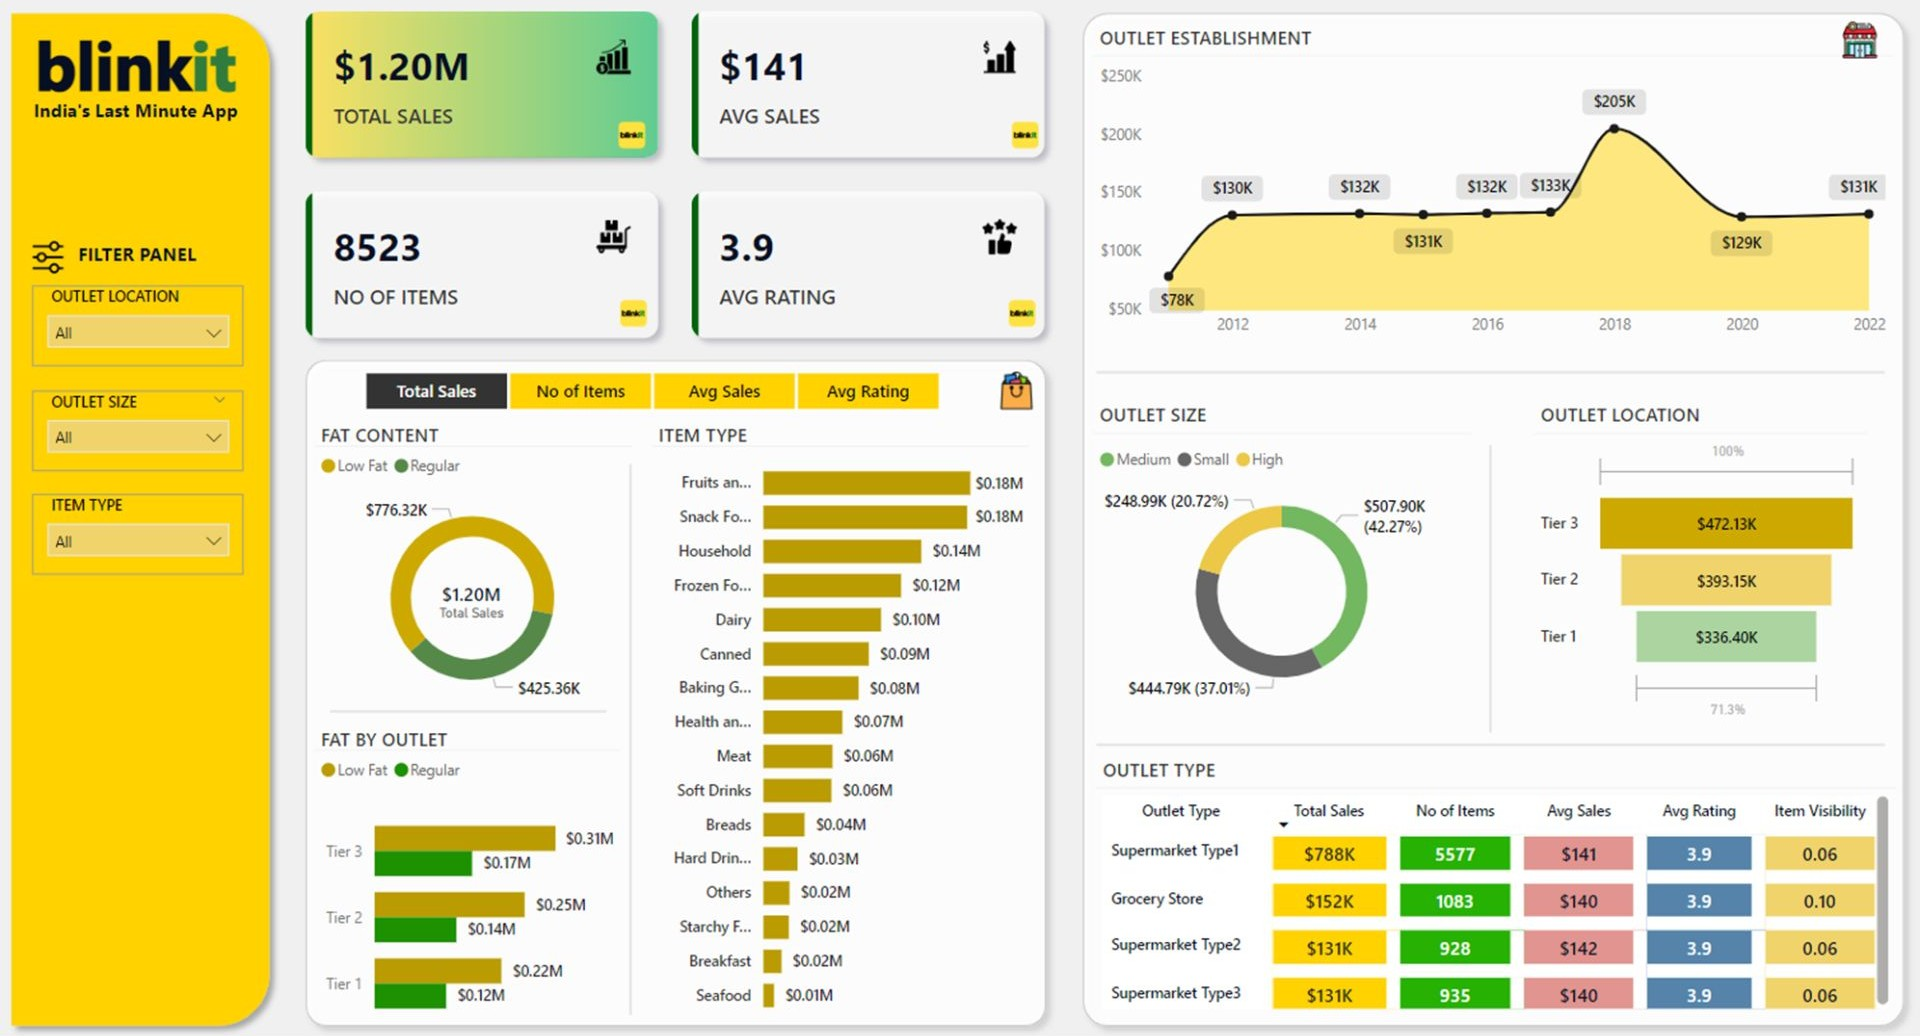

The page's visual inventory and layout, read from the dashboard file:
{"tool":"powerbi","page":{"name":"Home","canvas":[1400,800],"ordinal":0},"visuals":[{"type":"shape","box":[0,25.3,205,750.7],"z":0},{"type":"textbox","box":[0,33,198.1,82.1],"z":1000},{"type":"cardVisual","fields":{"Data":["BlinkIT Grocery Data.Total Sum Sales","BlinkIT Grocery Data.Average Sales","BlinkIT Grocery Data.No of Items","BlinkIT Grocery Data.Avg Rating"]},"box":[204.8,15.8,569.7,270.8],"z":2000},{"type":"shape","box":[774.5,25.5,611.7,751.1],"z":6000},{"type":"areaChart","title":"OUTLET ESTABLISHMENT","fields":{"Y":["BlinkIT Grocery Data.Total Sum Sales"],"Category":["BlinkIT Grocery Data.Outlet Establishment Year2"]},"box":[790.6,42.5,578.3,234],"z":7000},{"type":"textbox","box":[0,89.6,198.1,34],"z":8000},{"type":"donutChart","title":"OUTLET SIZE","fields":{"Category":["BlinkIT Grocery Data.Outlet Size"],"Y":["BlinkIT Grocery Data.Total Sum Sales"]},"box":[790.6,316,273.6,224.5],"z":9000},{"type":"funnel","title":"OUTLET LOCATION","fields":{"Category":["BlinkIT Grocery Data.Outlet Location Type"],"Y":["BlinkIT Grocery Data.Total Sum Sales"]},"box":[1110.4,316,240.6,234],"z":10000},{"type":"pivotTable","title":"OUTLET TYPE","fields":{"Rows":["BlinkIT Grocery Data.Outlet Type"],"Values":["BlinkIT Grocery Data.Total Sum Sales","BlinkIT Grocery Data.No of Items","BlinkIT Grocery Data.Average Sales","BlinkIT Grocery Data.Avg Rating","Avg(BlinkIT Grocery Data.Item Visibility)"]},"box":[793.6,572.3,578.7,197.1],"z":11000},{"type":"shape","box":[793.4,284.9,570.8,19.8],"z":12000},{"type":"shape","box":[1064.2,346.2,29.2,208.5],"z":13000},{"type":"shape","box":[212.8,276.6,553.2,500],"z":14000},{"type":"donutChart","title":"FAT CONTENT","fields":{"Y":["BlinkIT Grocery Data.Avg Rating"],"Category":["BlinkIT Grocery Data.Item Fat Content"]},"box":[228.3,330.2,229.2,213.2],"z":15000},{"type":"shape","box":[793.4,553.8,570.8,19.8],"z":16000},{"type":"cardVisual","fields":{"Data":["BlinkIT Grocery Data.Avg Rating"]},"box":[291.9,428.1,102,54.5],"z":17000},{"type":"slicer","fields":{"Values":["Metric.Metric"]},"box":[240,287.5,464.2,39.6],"z":18000},{"type":"barChart","title":"ITEM TYPE","fields":{"Y":["BlinkIT Grocery Data.Avg Rating"],"Category":["BlinkIT Grocery Data.Item Type"]},"box":[475.3,330.2,269.8,438.1],"z":19000},{"type":"shape","box":[442.5,360.4,29.2,399.1],"z":20000},{"type":"clusteredBarChart","title":"FAT BY OUTLET","fields":{"Y":["BlinkIT Grocery Data.Avg Rating"],"Category":["BlinkIT Grocery Data.Outlet Location Type"],"Series":["BlinkIT Grocery Data.Item Fat Content"]},"box":[228.3,550.9,221.7,229.2],"z":21000},{"type":"shape","box":[239.6,529.2,200,19.8],"z":22000},{"type":"image","box":[725.5,108.5,33,29.2],"z":23000},{"type":"image","box":[723.6,237.7,33,29.2],"z":24000},{"type":"image","box":[442.5,237.7,33,29.2],"z":25000},{"type":"image","box":[440.6,108.5,33,29.2],"z":26000},{"type":"image","box":[715.6,289.2,41.3,36.9],"z":27000},{"type":"image","box":[1327.5,33.4,36,40.4],"z":28000},{"type":"slicer","fields":{"Values":["BlinkIT Grocery Data.Outlet Location Type"]},"box":[23.7,231.2,153,58],"z":29000},{"type":"slicer","fields":{"Values":["BlinkIT Grocery Data.Outlet Size"]},"box":[23.7,307.7,153,58],"z":30000},{"type":"slicer","fields":{"Values":["BlinkIT Grocery Data.Item Type"]},"box":[23.7,382.4,153,58],"z":31000},{"type":"textbox","box":[36.8,193.4,126.4,31.1],"z":32000},{"type":"image","box":[18.9,184,34.9,53.8],"z":33000}]}

Visuals, with their boxes on the page's 1400x800 design canvas (x1, y1, x2, y2). These are canvas units, not pixel positions in the 1920x1036 screenshot, which may show the page scaled, cropped or inside an application window:
shape: (0,25,205,776)
textbox: (0,33,198,115)
cardVisual - BlinkIT Grocery Data.Total Sum Sales x BlinkIT Grocery Data.Average Sales: (205,16,774,287)
shape: (774,26,1386,777)
"OUTLET ESTABLISHMENT" areaChart: (791,42,1369,276)
textbox: (0,90,198,124)
"OUTLET SIZE" donutChart: (791,316,1064,540)
"OUTLET LOCATION" funnel: (1110,316,1351,550)
"OUTLET TYPE" pivotTable: (794,572,1372,769)
shape: (793,285,1364,305)
shape: (1064,346,1093,555)
shape: (213,277,766,777)
"FAT CONTENT" donutChart: (228,330,458,543)
shape: (793,554,1364,574)
cardVisual - BlinkIT Grocery Data.Avg Rating: (292,428,394,483)
slicer - Metric.Metric: (240,288,704,327)
"ITEM TYPE" barChart: (475,330,745,768)
shape: (442,360,472,760)
"FAT BY OUTLET" clusteredBarChart: (228,551,450,780)
shape: (240,529,440,549)
image: (726,108,758,138)
image: (724,238,757,267)
image: (442,238,476,267)
image: (441,108,474,138)
image: (716,289,757,326)
image: (1328,33,1364,74)
slicer - BlinkIT Grocery Data.Outlet Location Type: (24,231,177,289)
slicer - BlinkIT Grocery Data.Outlet Size: (24,308,177,366)
slicer - BlinkIT Grocery Data.Item Type: (24,382,177,440)
textbox: (37,193,163,224)
image: (19,184,54,238)
